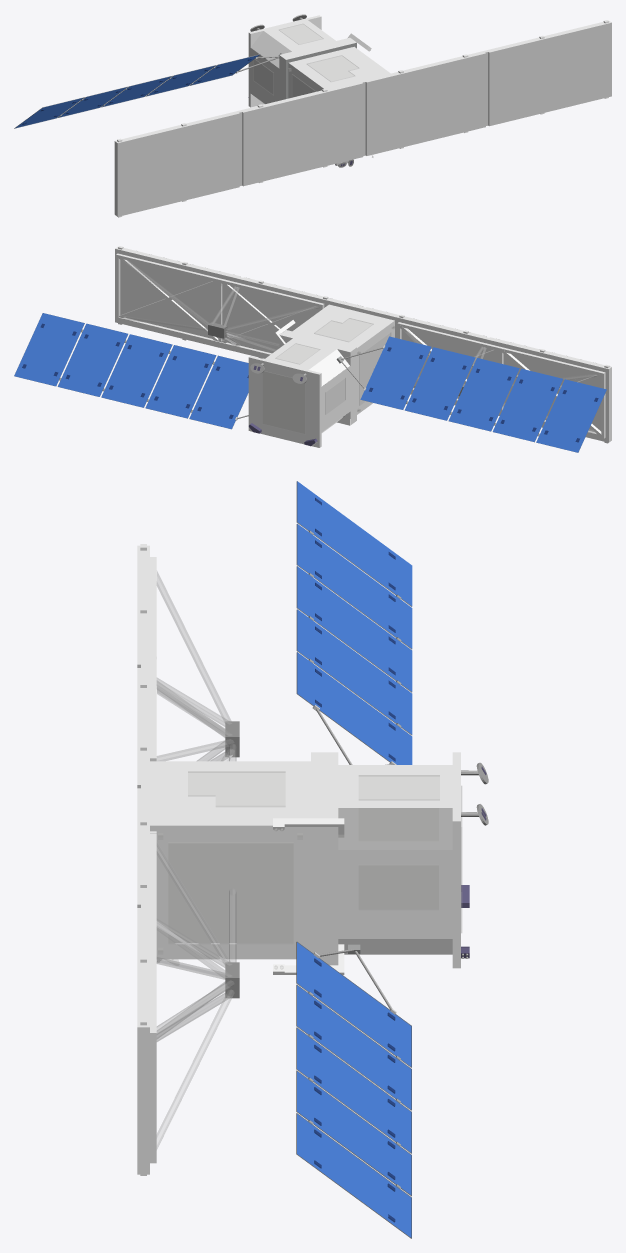
The model's file is radar-satellite-1-radarsat-1.glb.
The picture shows the model from 3 angles, top to bottom: view 1: azimuth 30°, elevation 25°; view 2: azimuth 150°, elevation 25°; view 3: azimuth 270°, elevation 25°; orthographic projection. The views are drawn at different scales.
Visible parts, largest first — view 1: mesh_0, mesh_0_1; view 2: mesh_0, mesh_0_1; view 3: mesh_0, mesh_0_1.
Boxes of the visible parts, x1,y1,x2,y2 form: mesh_0: [14, 14, 611, 217]; mesh_0_1: [16, 24, 373, 157]; mesh_0: [14, 246, 611, 452]; mesh_0_1: [14, 259, 596, 433]; mesh_0: [137, 481, 488, 1238]; mesh_0_1: [156, 571, 461, 1237].
Size of the model in its own units: 160 by 28.11 by 43.19.
2 materials, 2 textured.
